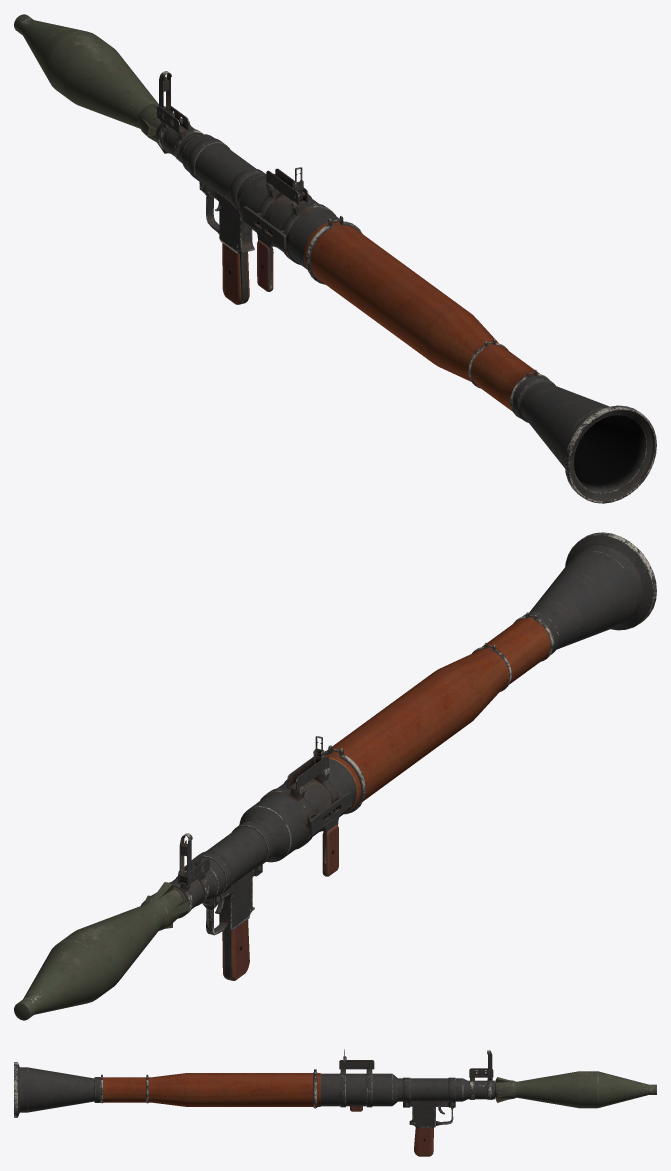
Rendered from rpg.glb.
3 views of the same model, one above another, from view 1: azimuth 30°, elevation 25°; view 2: azimuth 150°, elevation 25°; view 3: azimuth 270°, elevation 25° (orthographic). The views are drawn at different scales.
Parts seen in each view (by area): view 1: weapon; view 2: weapon; view 3: weapon.
Part boxes in pixels (bbox=[...]): weapon: bbox=[14, 14, 656, 503]; weapon: bbox=[14, 532, 656, 1020]; weapon: bbox=[14, 1049, 656, 1156].
Size of the model in its own units: 0.0828 by 0.1678 by 0.95.
Materials: 1 (1 with a texture image).
